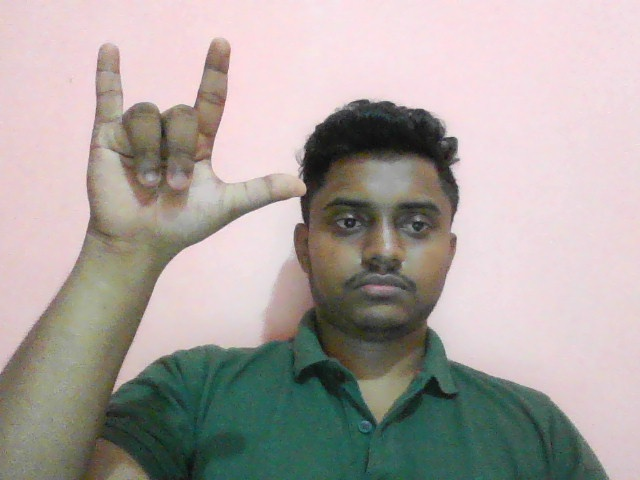I Love You: (72, 32, 316, 288)
